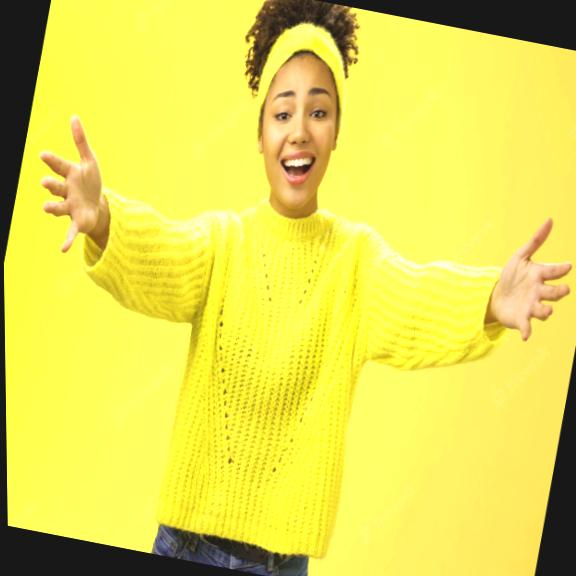no_safety_vest: (122, 192, 409, 568)
